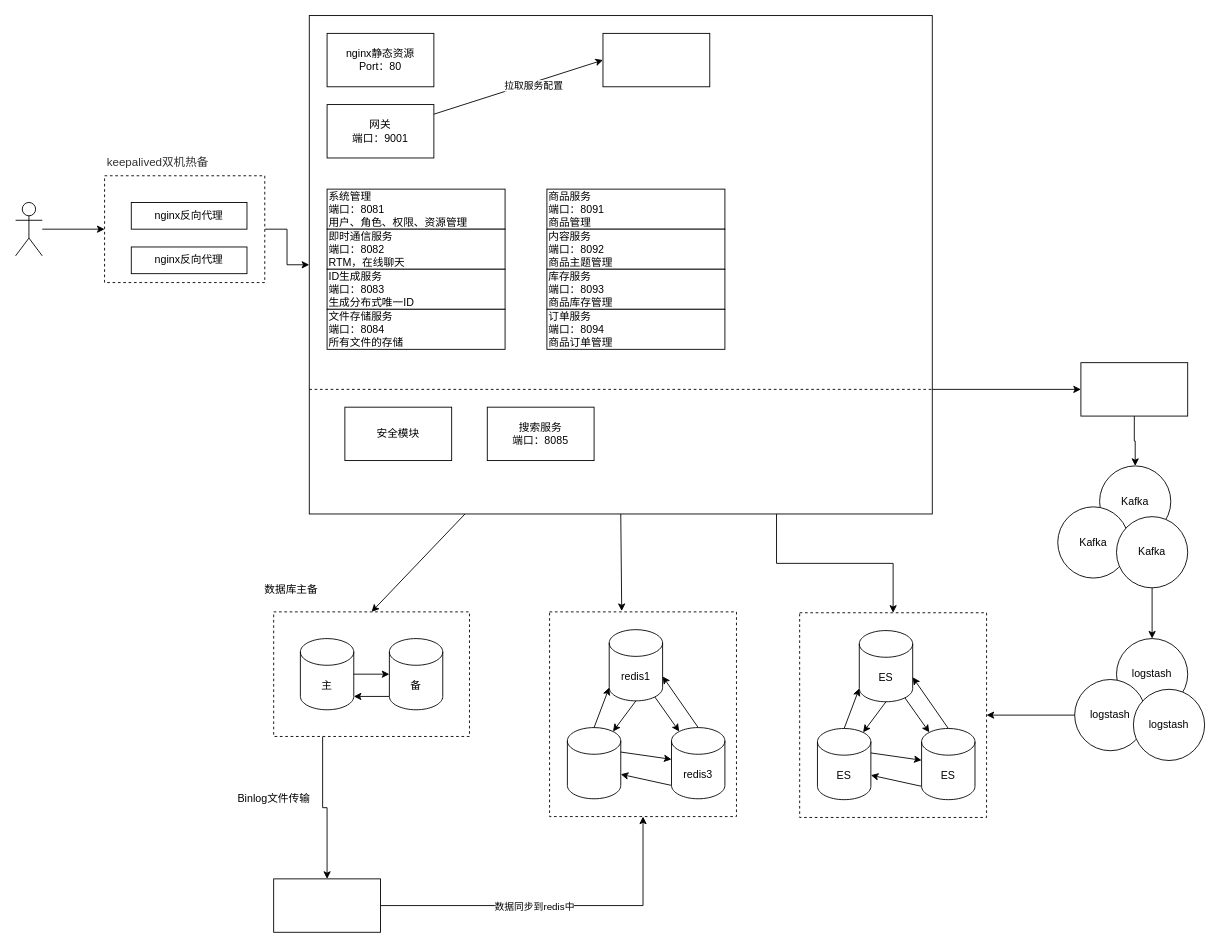
Some shapes in this 1220 by 948 pixel diagram are drawn without their labels. The shapes that lost their labels are listed below. From the top down, each one's centre as x and y in pixels, then its label:
At pixel 656 59: "注册中心 端口：9002".
At pixel 28 229: "Actor".
At pixel 1134 389: "Flume 日志采集".
At pixel 593 763: "redis2".
At pixel 326 905: "Canal 模拟mysql数据库从库".
